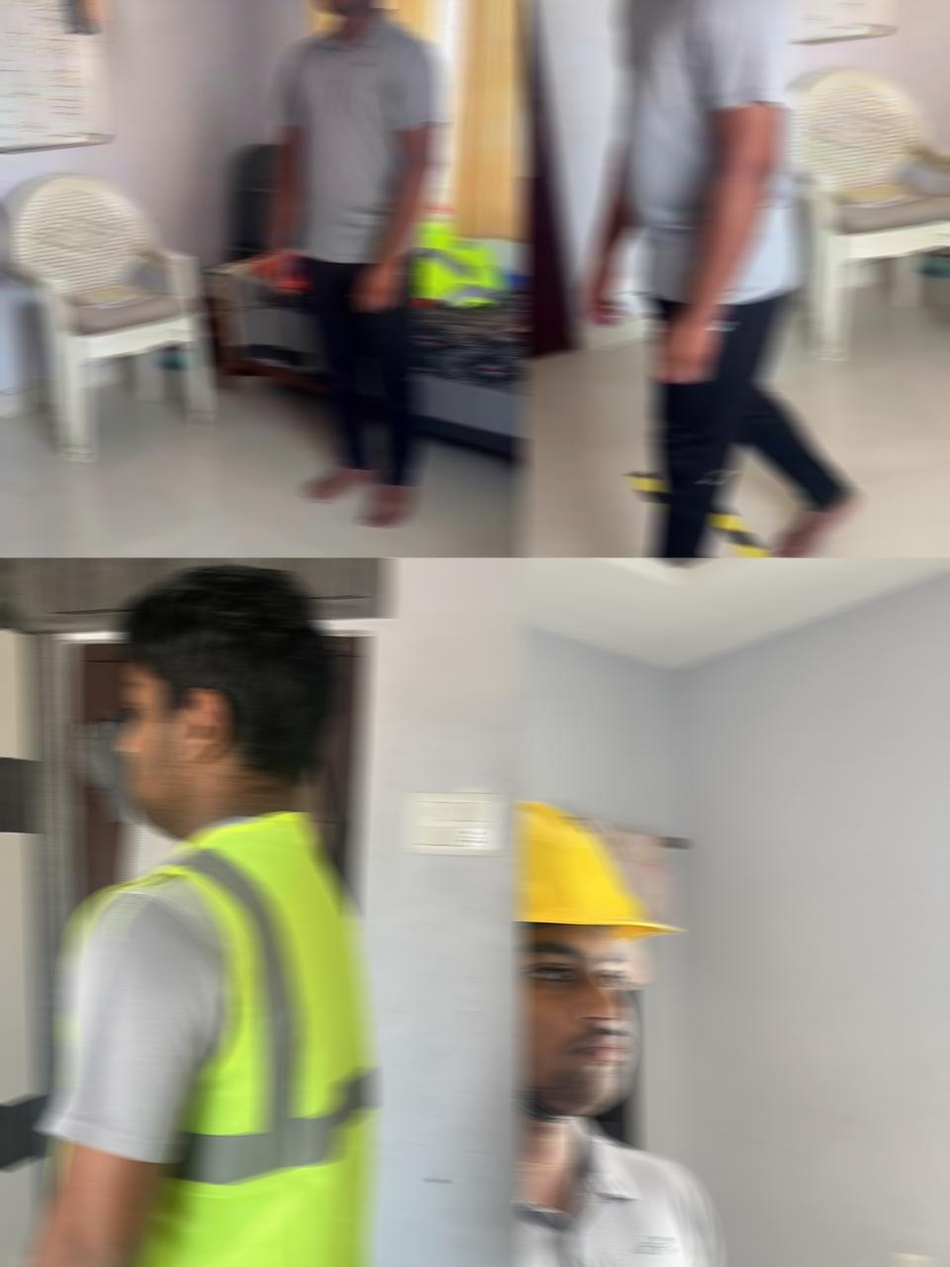BorderLine: (626, 468, 936, 557)
Helmet: (519, 800, 680, 1121)
No_Helmet: (112, 564, 343, 842)
No_Vest: (612, 0, 809, 309), (270, 8, 445, 262)
Person: (0, 564, 376, 1267), (549, 0, 861, 557), (519, 802, 783, 1267), (263, 0, 447, 530)
Vest: (48, 811, 377, 1267)
